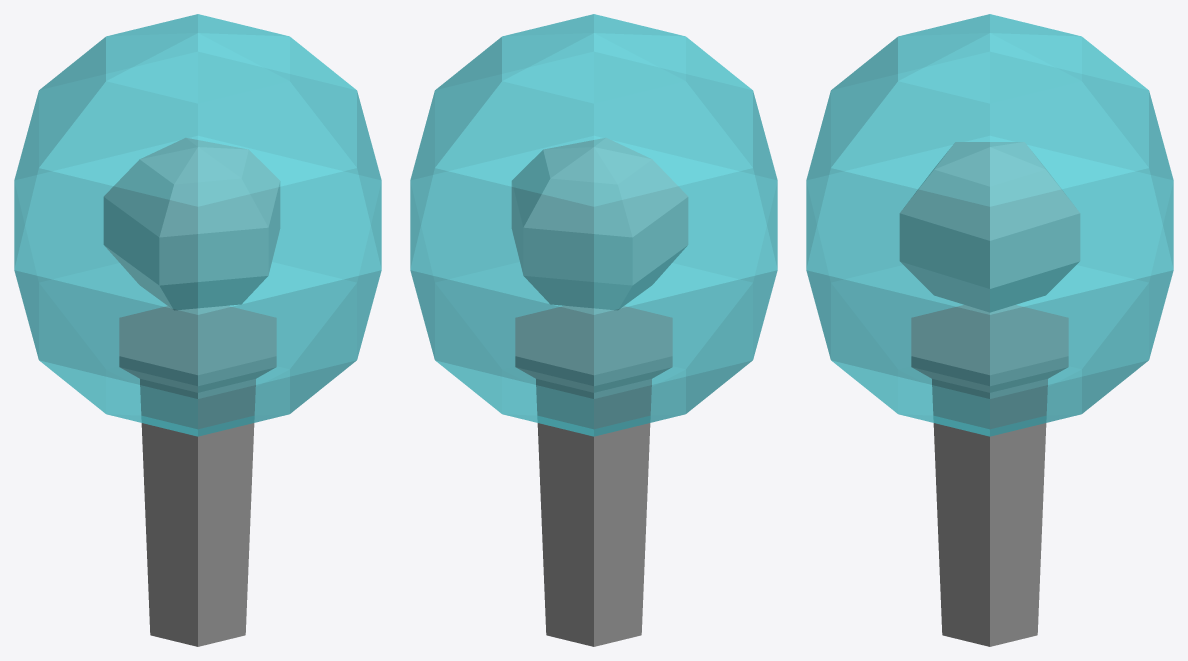
The model's file is trap.fbx.
3 views of the same model, side by side, from view 1: azimuth 30°, elevation 25°; view 2: azimuth 150°, elevation 25°; view 3: azimuth 270°, elevation 25° (orthographic).
Parts seen in each view (by area): view 1: magic_orb, metal_rod, core; view 2: magic_orb, metal_rod, core; view 3: magic_orb, metal_rod, core.
Boxes of the visible parts, <box> form: magic_orb: <box>14,14,381,436</box>; metal_rod: <box>119,306,276,646</box>; core: <box>104,138,279,310</box>; magic_orb: <box>410,14,777,436</box>; metal_rod: <box>515,306,672,646</box>; core: <box>512,138,687,310</box>; magic_orb: <box>806,14,1173,436</box>; metal_rod: <box>911,305,1068,646</box>; core: <box>900,142,1079,312</box>.
Size of the model in its own units: 8 by 12.29 by 6.93.
